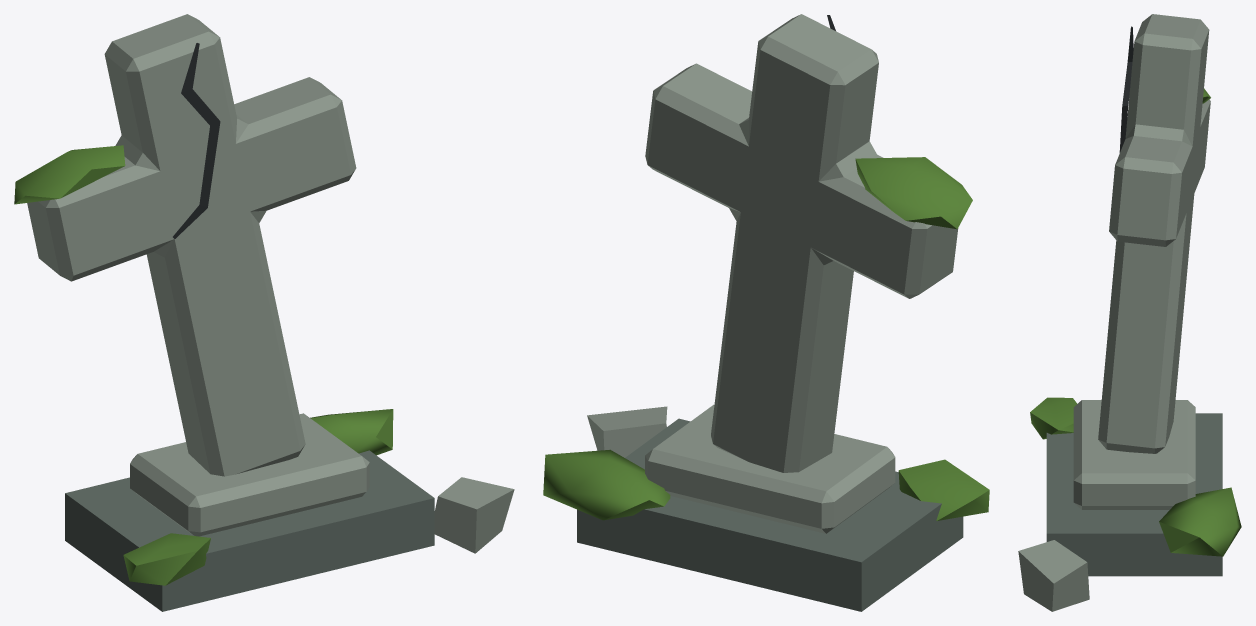
Rendered from tombstone_b.glb.
3 views of the same model, side by side, from view 1: azimuth 30°, elevation 25°; view 2: azimuth 150°, elevation 25°; view 3: azimuth 270°, elevation 25° (orthographic). The views are drawn at different scales.
Visible parts, largest first — view 1: tombstone_b; view 2: tombstone_b; view 3: tombstone_b.
Boxes of the visible parts, x1,y1,x2,y2 form: tombstone_b: (14,14,514,611); tombstone_b: (543,14,989,611); tombstone_b: (1018,14,1241,611).
Bounding box in the file's own units: 0.6622 × 0.7697 × 0.3297.
